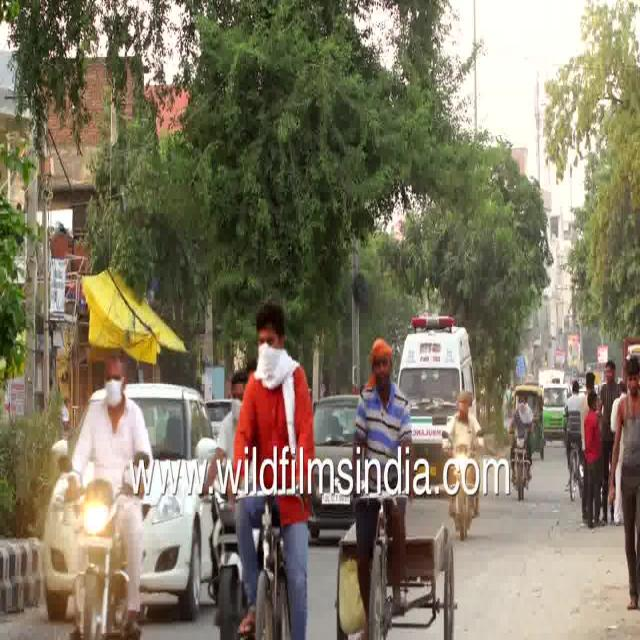ambulance: (396, 314, 470, 446)
